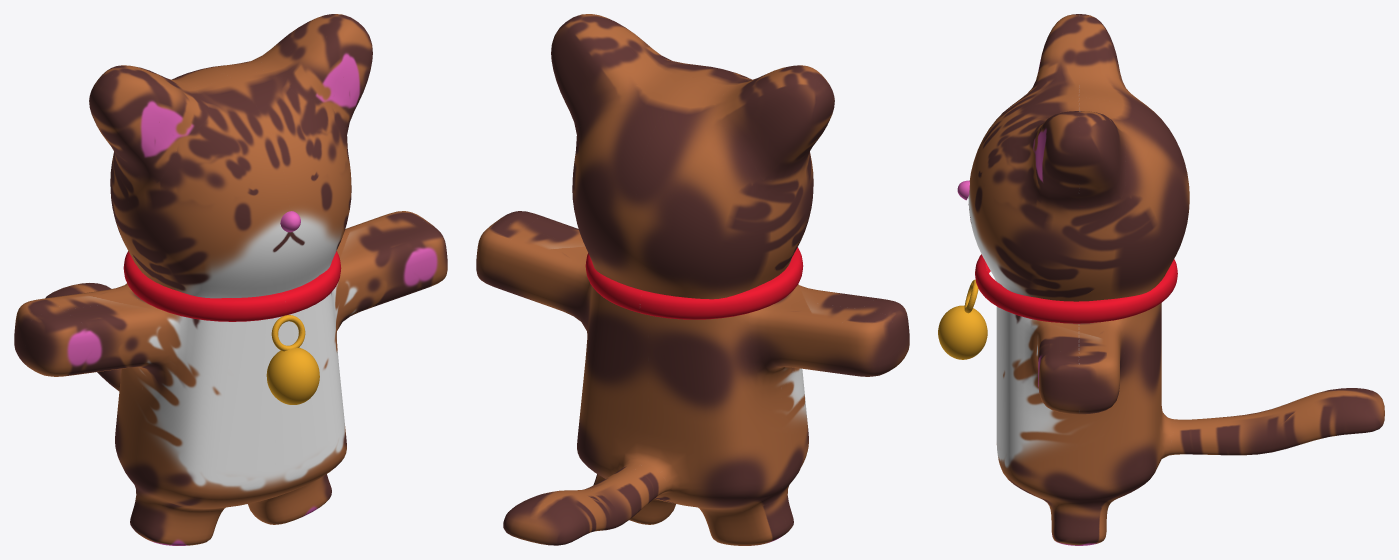
Rendered from wildcat.fbx.
3 renders of one model, left to right at view 1: azimuth 30°, elevation 25°; view 2: azimuth 150°, elevation 25°; view 3: azimuth 270°, elevation 25°, orthographic. The views are drawn at different scales.
Visible parts, largest first — view 1: WildCat; view 2: WildCat; view 3: WildCat.
Boxes of the visible parts, bbox=[...] form: WildCat: bbox=[14, 14, 447, 545]; WildCat: bbox=[476, 14, 909, 545]; WildCat: bbox=[938, 14, 1384, 545].
Bounding box in the file's own units: 321 × 361 × 324.
